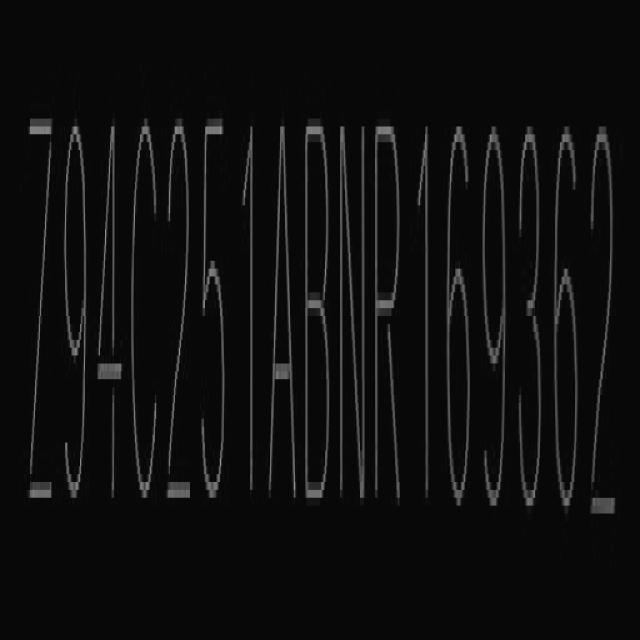1: (414, 117, 438, 514), (238, 112, 259, 510)
2: (589, 125, 622, 523), (165, 113, 195, 520)
3: (519, 120, 548, 519)
4: (96, 112, 126, 518)
5: (200, 111, 230, 515)
6: (446, 122, 476, 516), (554, 120, 582, 522)
9: (59, 117, 90, 521), (480, 118, 511, 513)
A: (266, 107, 298, 513)
B: (304, 109, 334, 512)
C: (132, 112, 161, 517)
N: (338, 110, 371, 510)
R: (373, 112, 404, 517)
Z: (22, 99, 54, 521)
